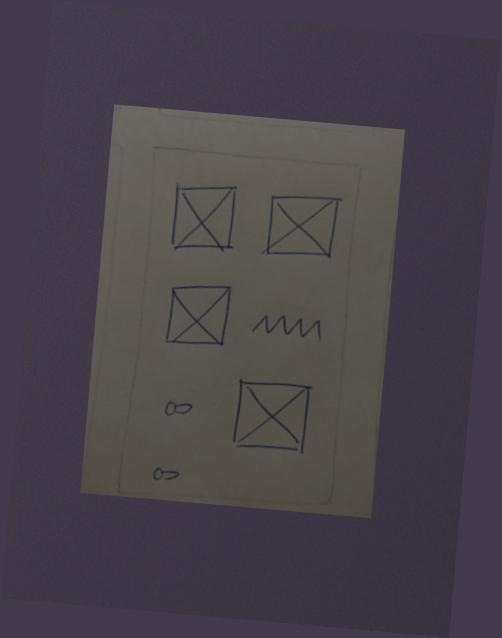image: (226, 373, 318, 462), (257, 185, 348, 269), (162, 178, 244, 256), (160, 277, 236, 352)
switch: (153, 391, 202, 425), (144, 458, 190, 489)
text: (244, 303, 332, 349)
